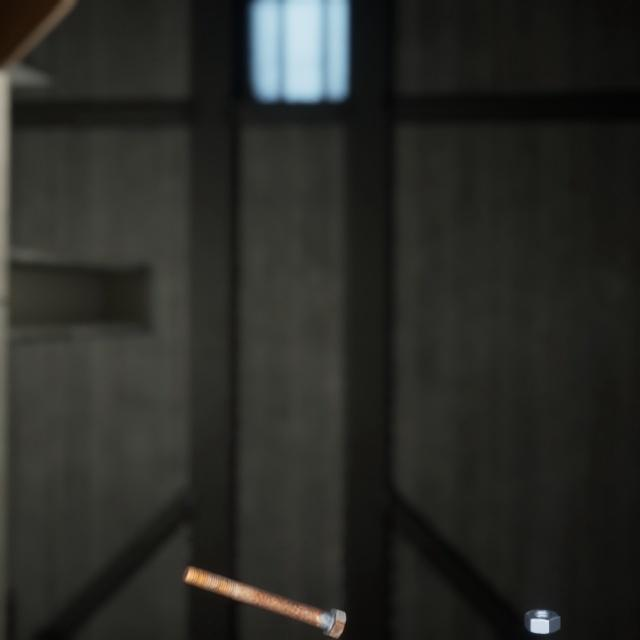bolt: (178, 537, 350, 619)
nut: (520, 581, 564, 614)
